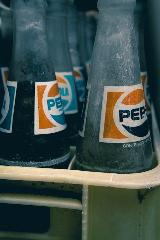glass: (76, 0, 156, 172)
